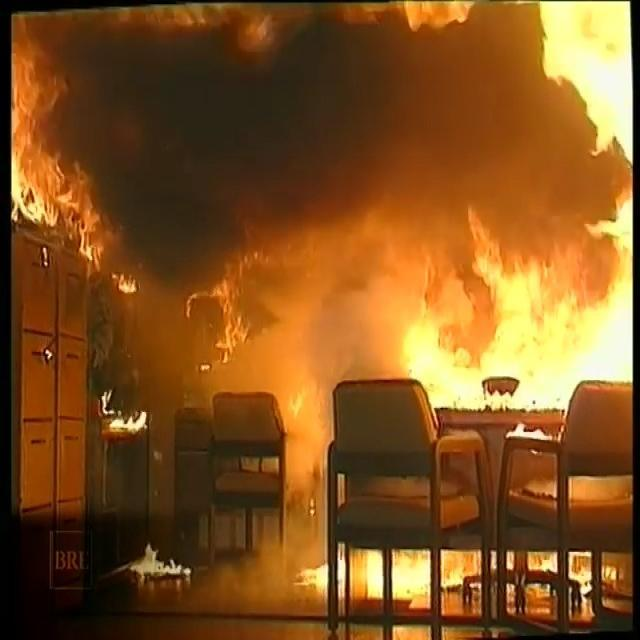Fire: (3, 6, 640, 394)
